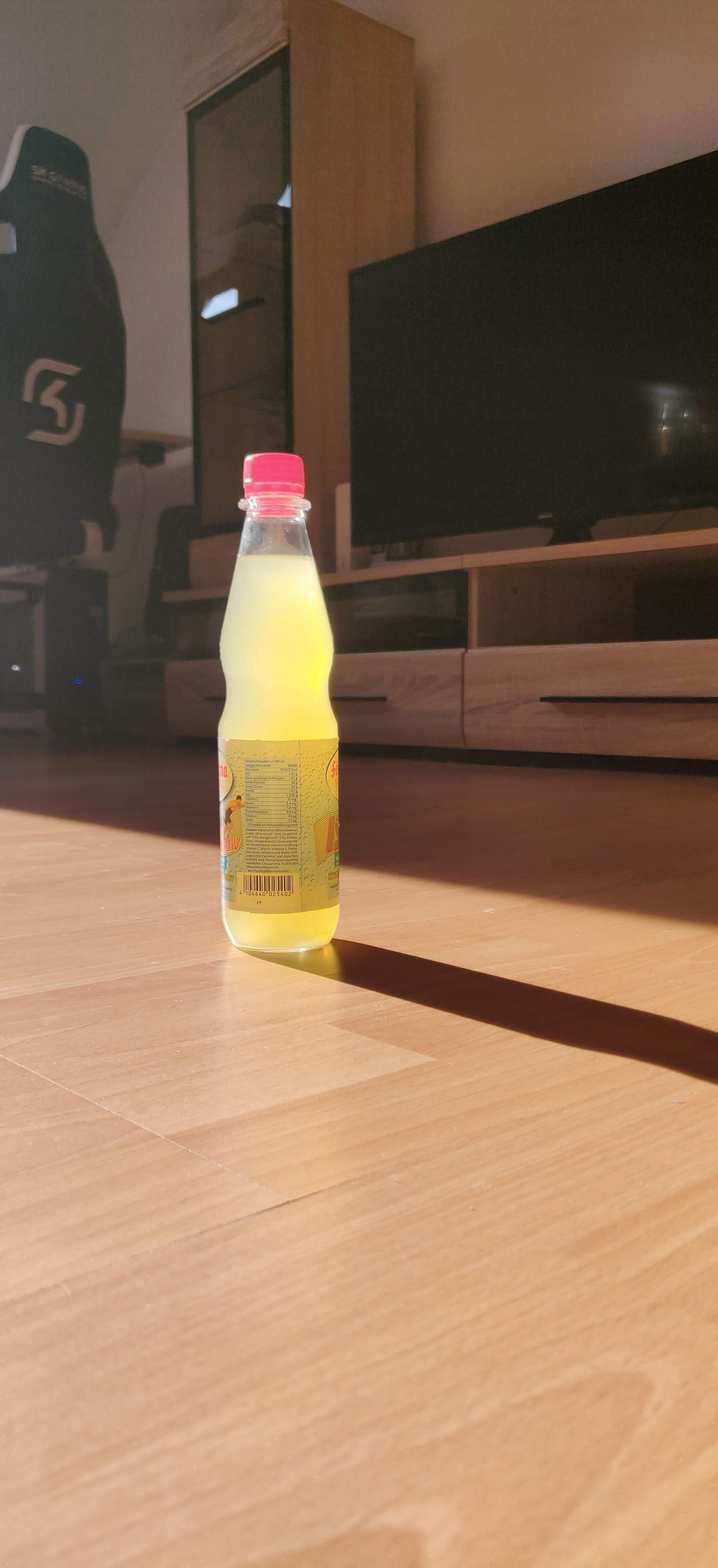bottle-plastic: (214, 448, 341, 959)
